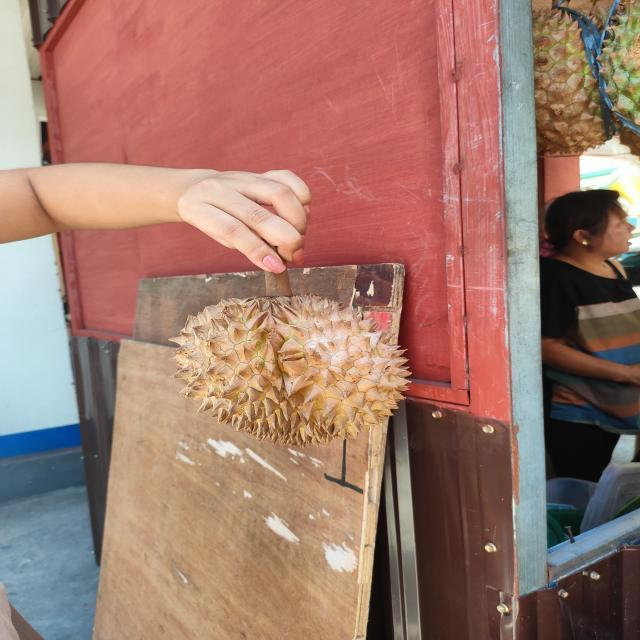mature: (169, 292, 411, 448)
